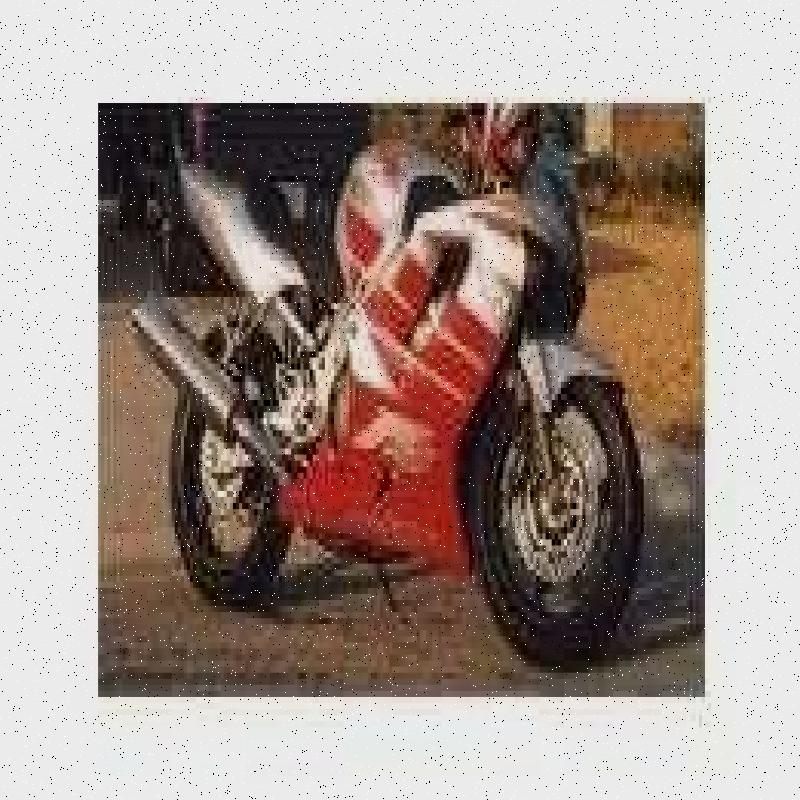bike: (155, 89, 635, 662)
